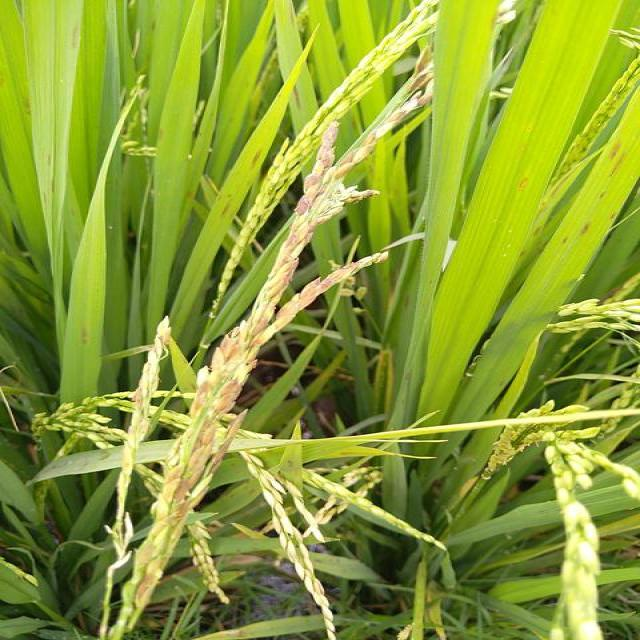Panicle Blight: (273, 253, 388, 331), (200, 409, 248, 480), (268, 222, 308, 278), (324, 140, 377, 182), (376, 93, 432, 131), (209, 327, 241, 373), (405, 46, 435, 93), (293, 170, 323, 216), (317, 121, 340, 170), (267, 262, 297, 299), (212, 381, 243, 415), (169, 503, 189, 549), (247, 318, 272, 353), (193, 420, 221, 451), (189, 377, 209, 420), (152, 318, 171, 358), (303, 218, 327, 246), (133, 538, 153, 570), (135, 574, 156, 601), (189, 446, 213, 468), (183, 463, 203, 487), (173, 480, 192, 504), (245, 348, 260, 374), (132, 386, 145, 416)
